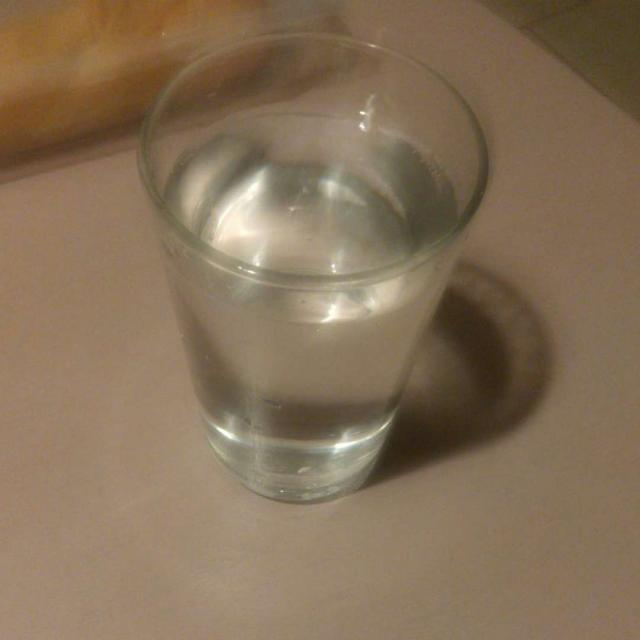water: (156, 125, 452, 501)
